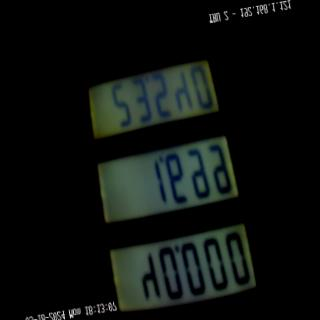screen: (68, 38, 262, 320)
